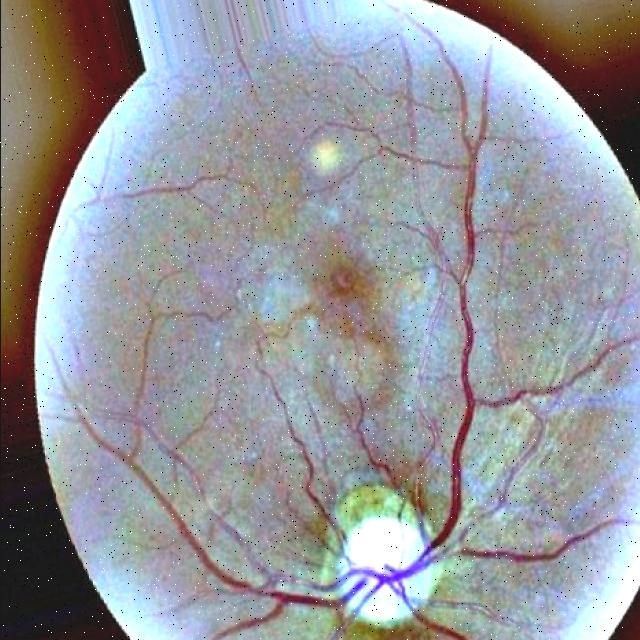Macula: (307, 244, 383, 328)
Nerves: (108, 445, 320, 640), (438, 247, 485, 539), (467, 509, 640, 562), (272, 395, 333, 525), (422, 602, 490, 640)
Optic Disk: (322, 478, 447, 639)
